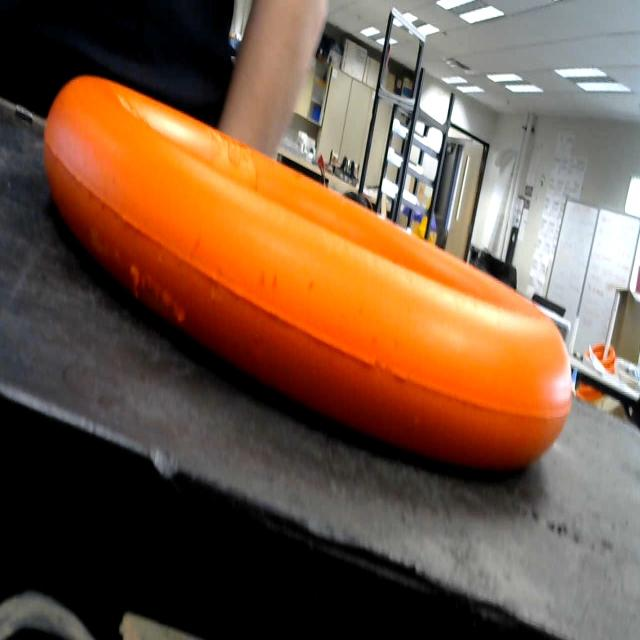note: (39, 56, 581, 526)
